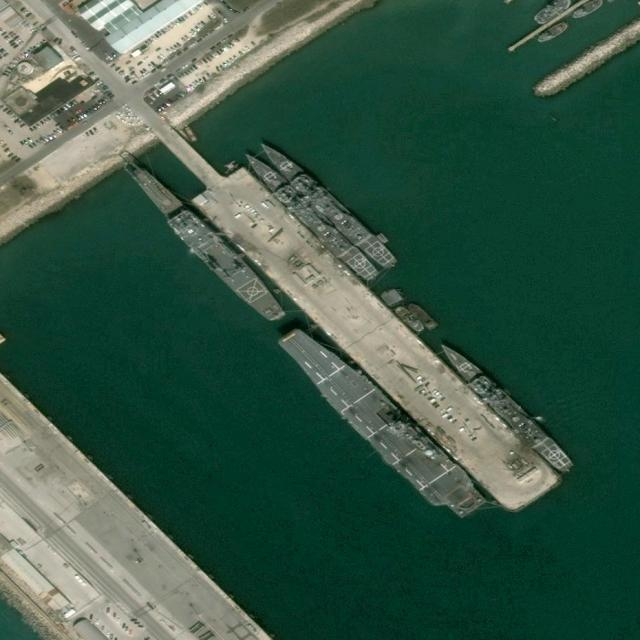Aircraft Carrier: (273, 310, 489, 537)
Dock: (187, 154, 562, 524)
Frigate: (435, 336, 575, 476), (257, 138, 398, 274), (240, 149, 379, 281)
Landing: (121, 156, 290, 334)
